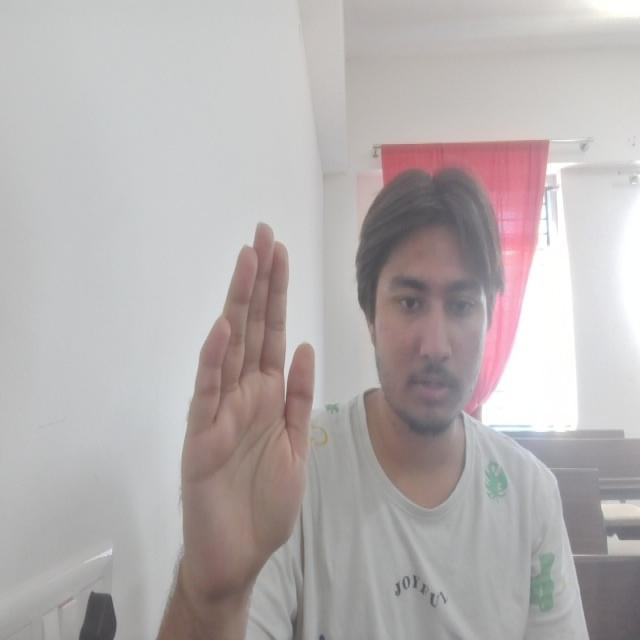hello: (178, 220, 319, 596)
